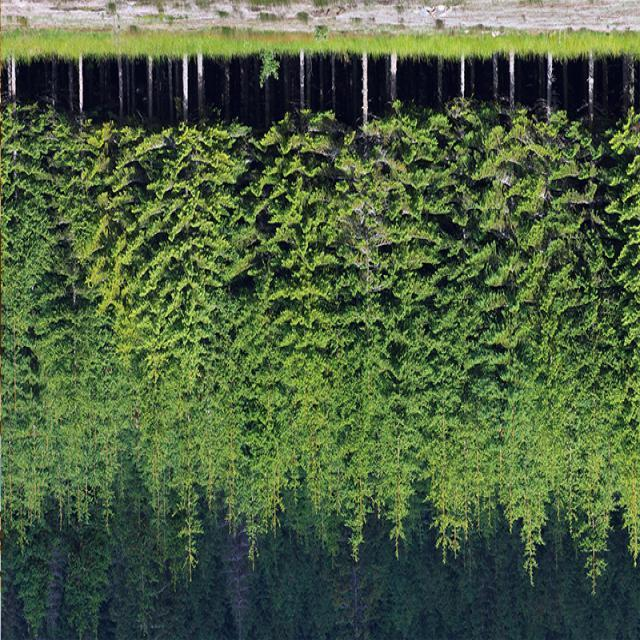tree: (41, 54, 189, 542), (424, 59, 492, 554), (235, 57, 298, 569), (194, 52, 250, 548), (293, 49, 345, 558), (562, 50, 610, 594), (0, 58, 52, 556), (513, 54, 559, 582), (53, 54, 103, 526), (338, 51, 382, 568), (378, 52, 422, 560), (486, 51, 530, 535), (603, 51, 640, 565)
